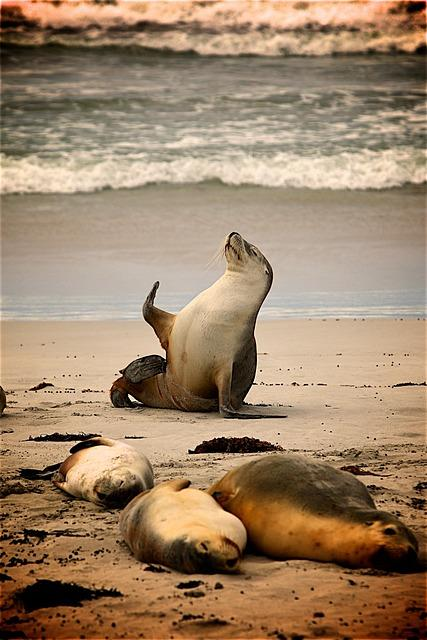Non_Gorille: (60, 210, 427, 639)
